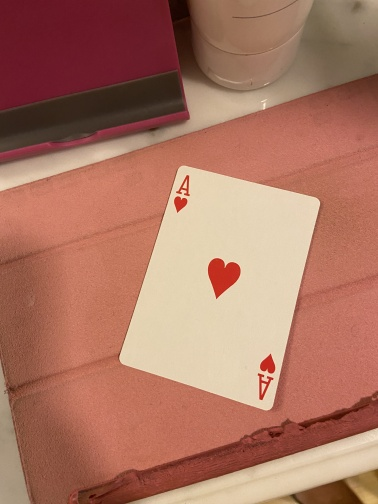ace: (117, 164, 322, 414)
